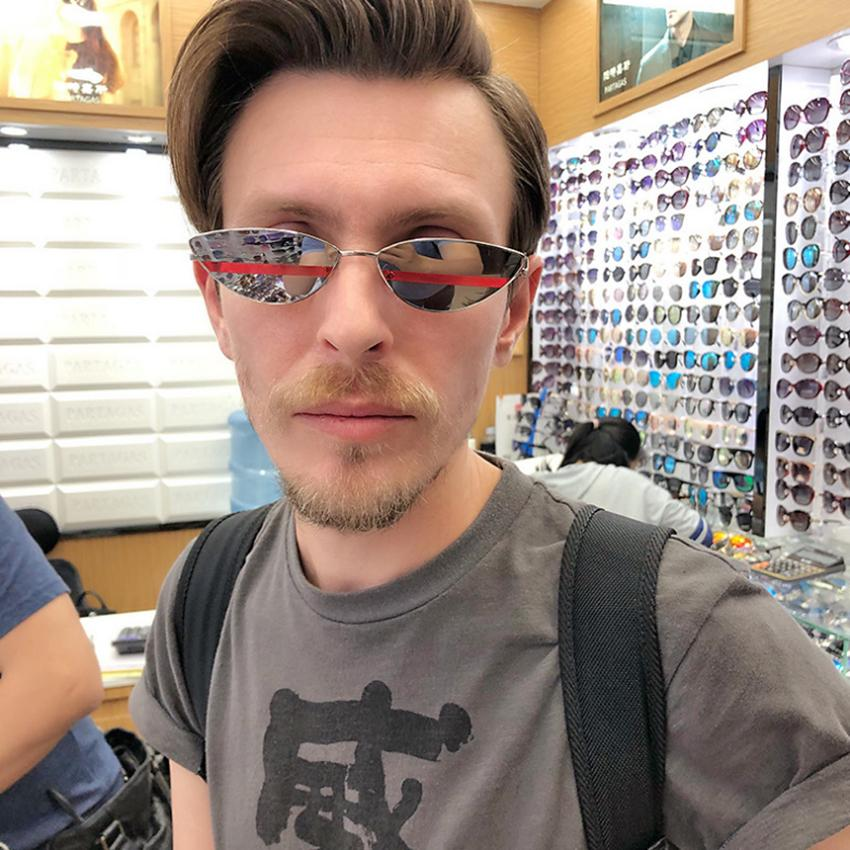sunglasses: (119, 197, 615, 356)
